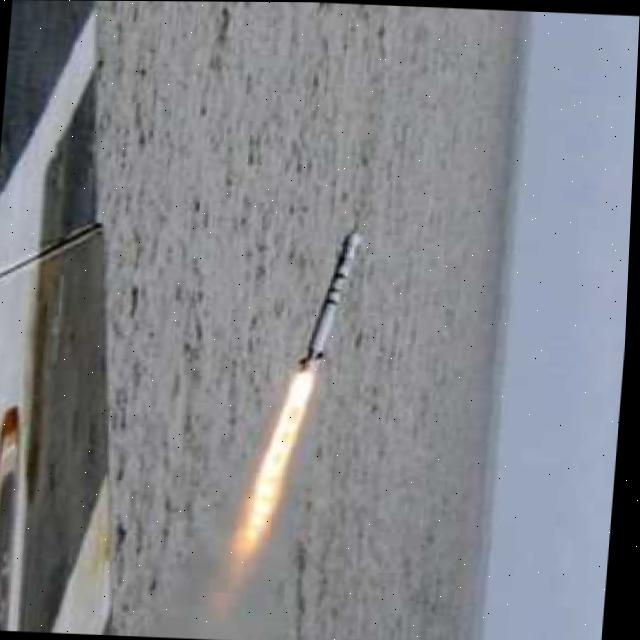missile: (293, 220, 365, 373)
